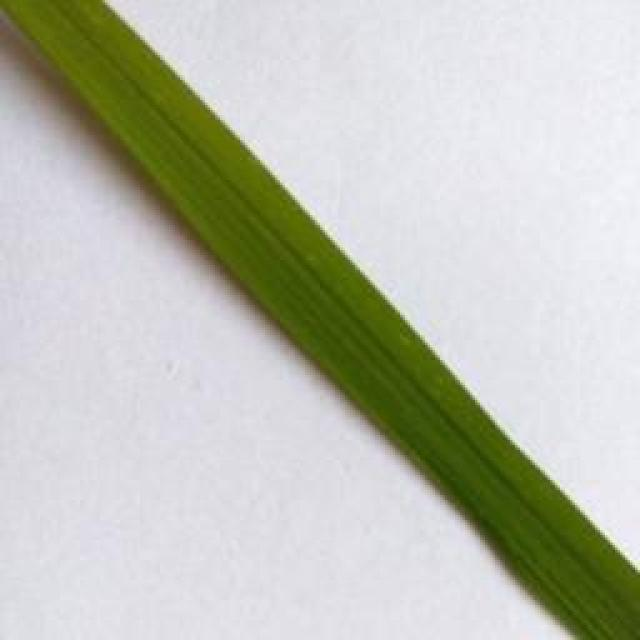Healthy-Plant: (233, 285, 488, 414), (343, 404, 582, 536), (149, 189, 378, 319), (0, 0, 215, 130), (442, 502, 638, 640), (85, 112, 292, 228)
